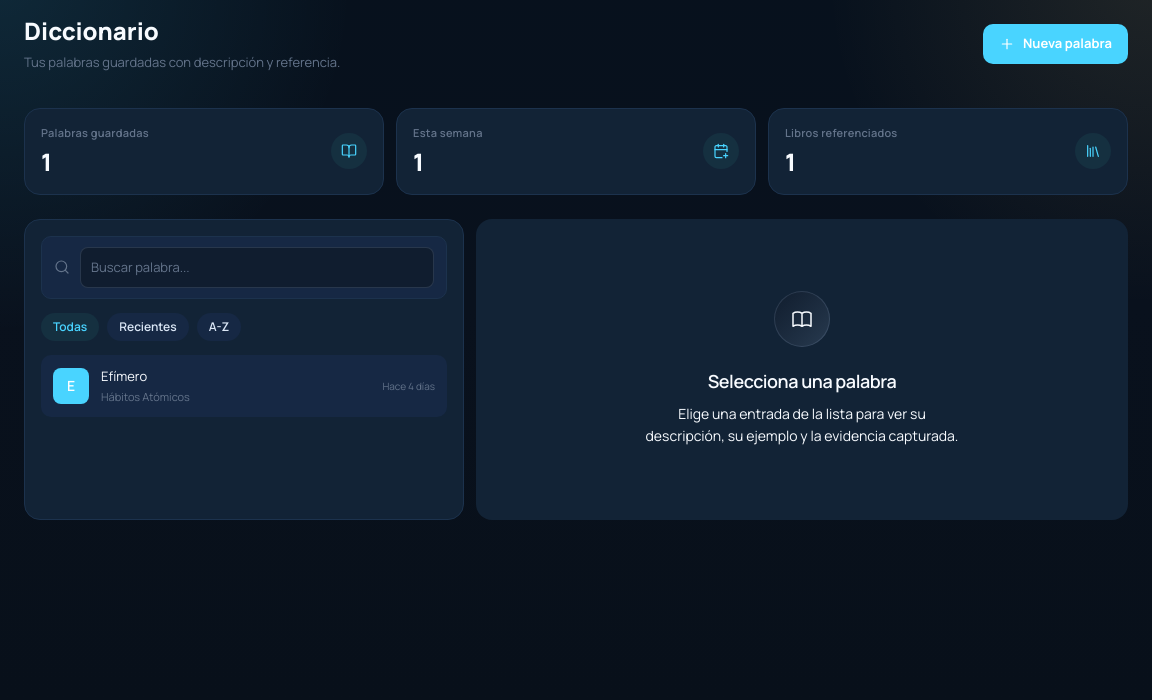
Test: DictionaryView edit mode (4D) › saves the four fields through DictionaryState.update and never writes evidence
Click the button with test id "dictionary-row": (71, 386) [41,355,447,417]
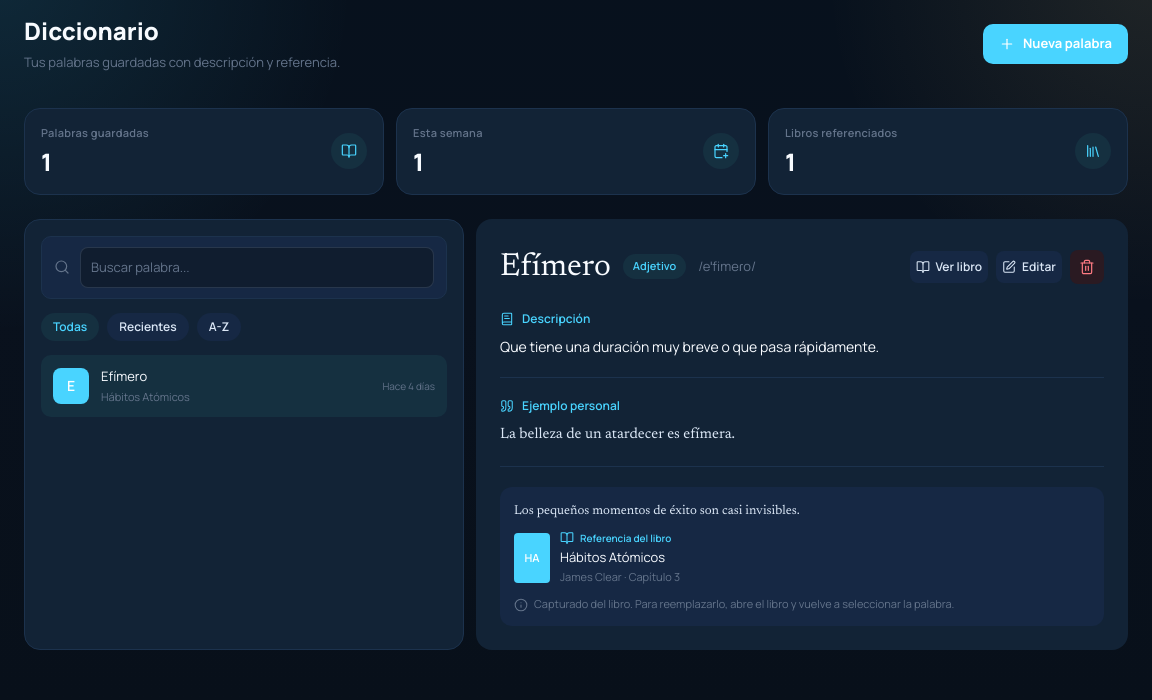
Click the button with test id "dictionary-detail-edit": (1029, 266) [996,250,1062,282]
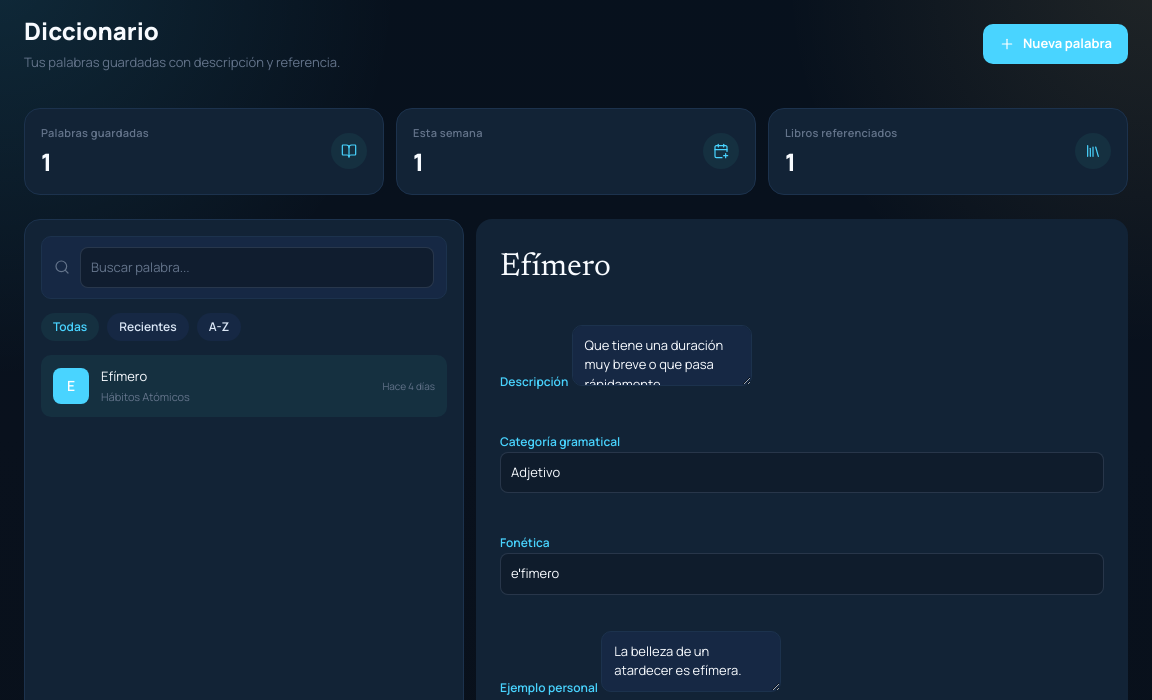
Replace the text in the text box with test id "dictionary-edit-definition" with "Nueva definición.": (662, 355) [572,324,752,386]
Replace the text in the field with test id "dictionary-edit-partOfSpeech" with "Sustantivo": (802, 472) [500,452,1104,493]
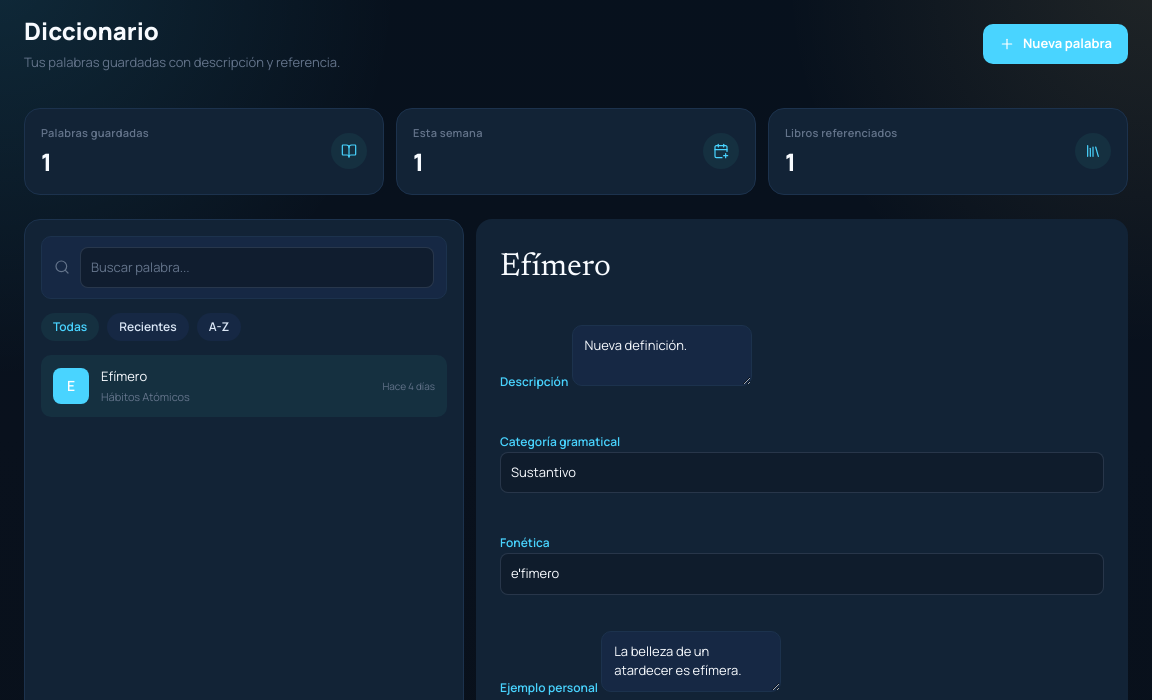
Replace the text in the field with test id "dictionary-edit-phonetic" with "nuevo": (802, 574) [500,553,1104,594]
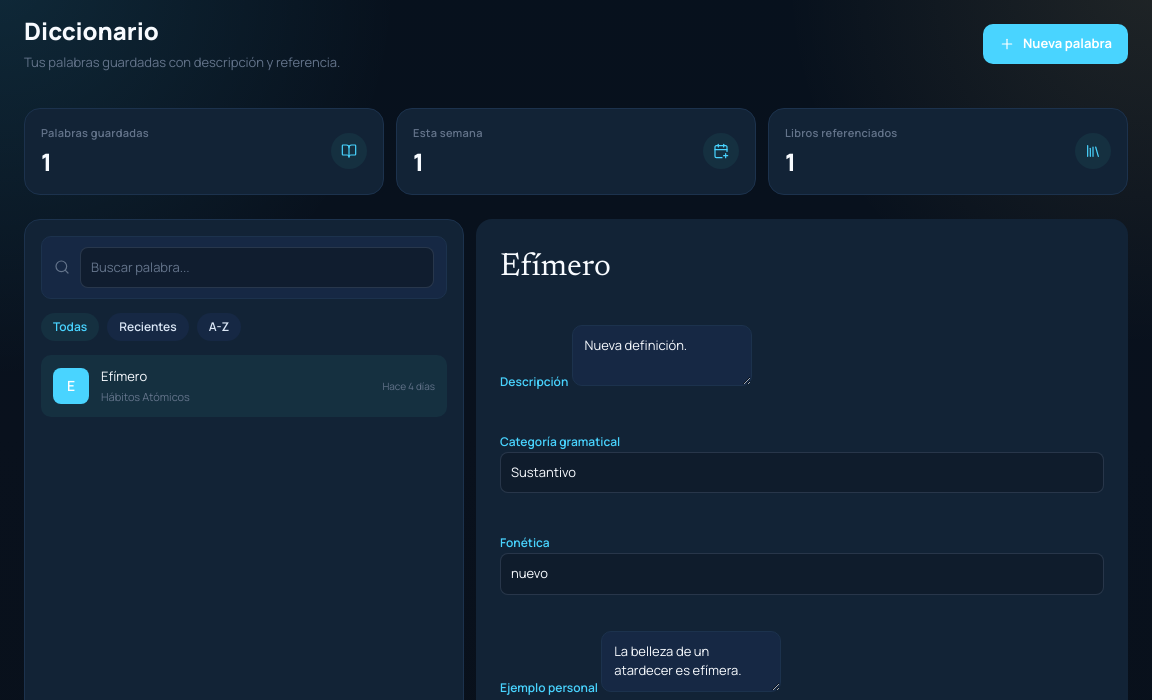
Replace the text in the text box with test id "dictionary-edit-example" with "Nuevo ejemplo.": (691, 661) [601,630,781,692]
(page scrolled)
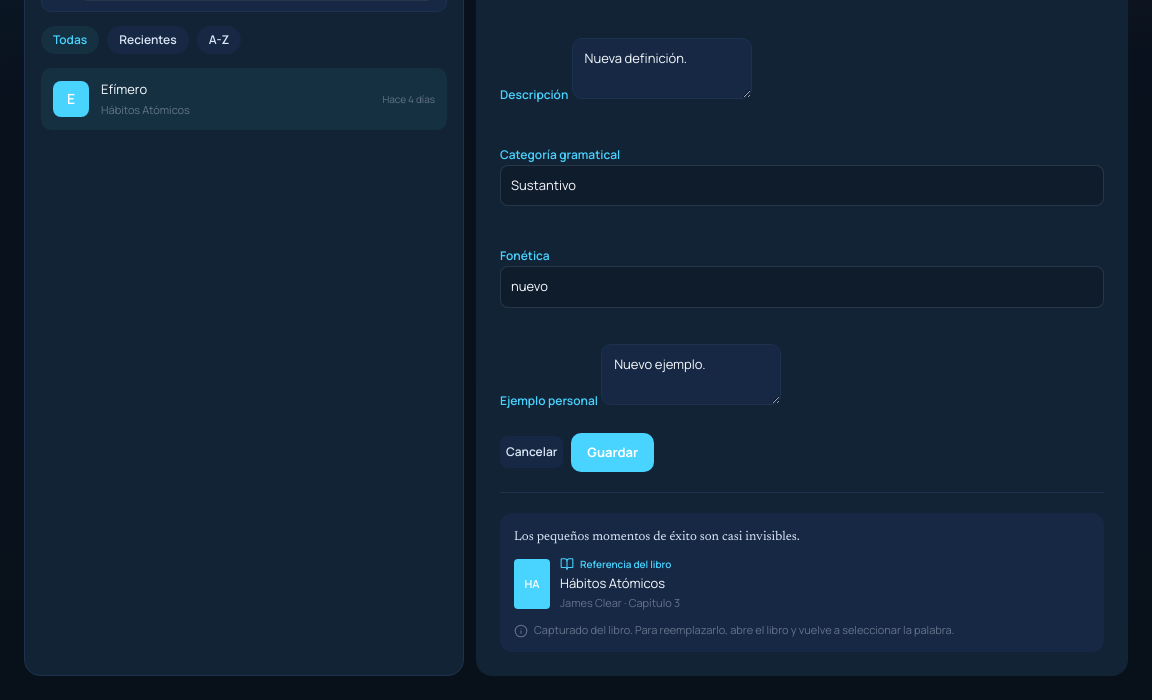
Click the button with test id "dictionary-edit-save": (613, 452) [571,432,654,472]
(page scrolled)
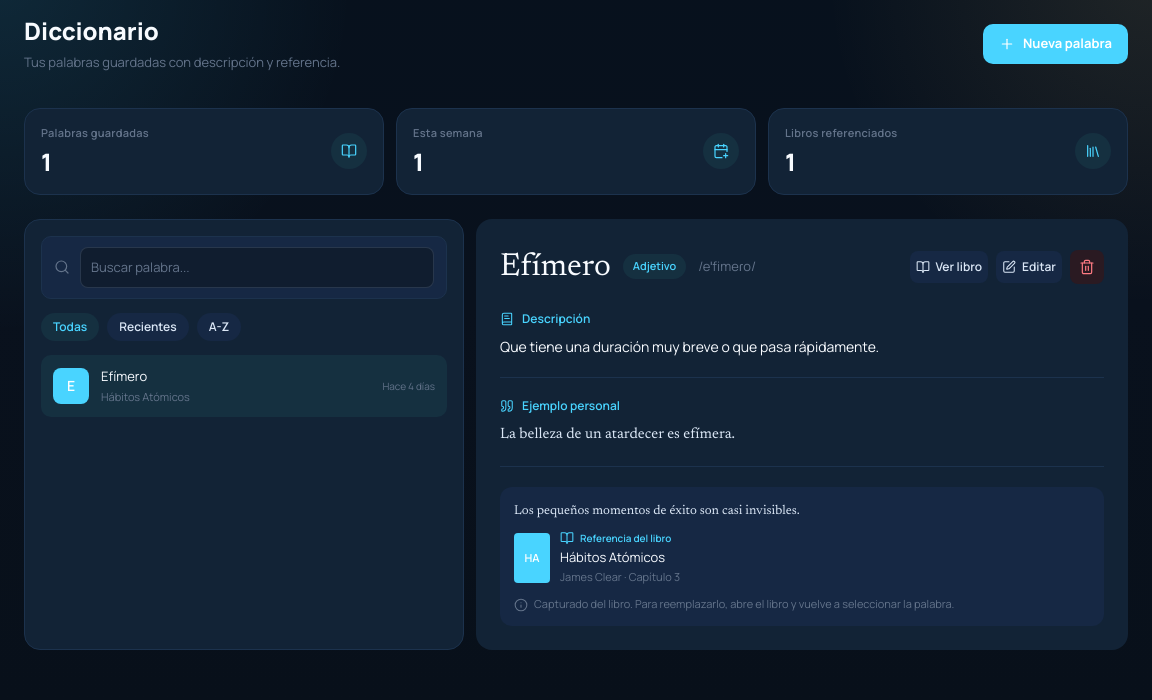
Check: the form with test id "dictionary-edit-form" is gone
